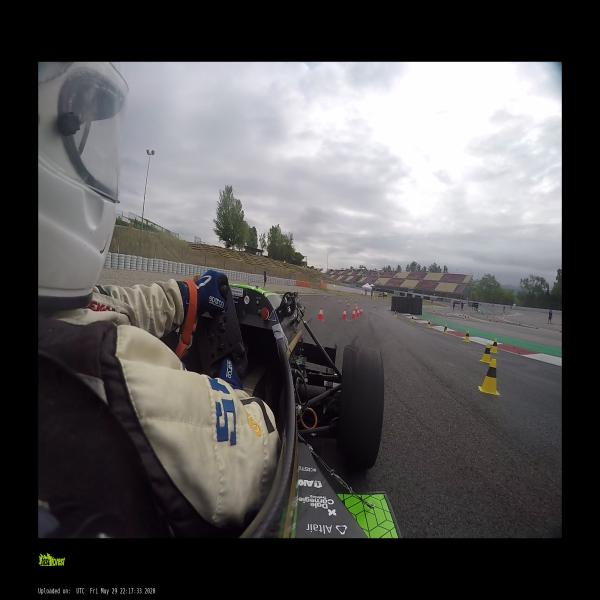orange_cone: (317, 307, 324, 321), (341, 309, 347, 320), (351, 309, 355, 319), (359, 308, 363, 316), (356, 309, 360, 317), (354, 306, 359, 312), (347, 302, 349, 308), (338, 300, 341, 304), (560, 327, 562, 333)
yellow_cone: (479, 359, 500, 396), (479, 343, 491, 363), (489, 338, 499, 355), (463, 330, 470, 343), (426, 320, 430, 329), (443, 324, 447, 333), (410, 315, 414, 322), (393, 311, 396, 317), (373, 305, 375, 311), (354, 300, 356, 305), (345, 298, 347, 302)
